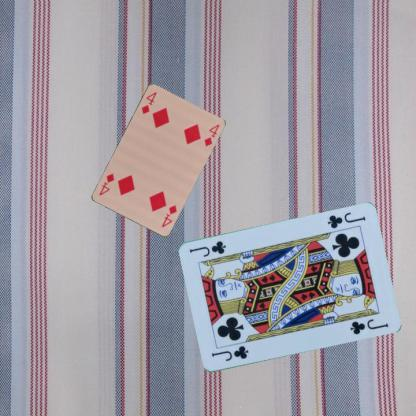4d: (139, 89, 158, 115), (159, 202, 178, 228)
Jc: (325, 210, 367, 230), (209, 343, 250, 363)
